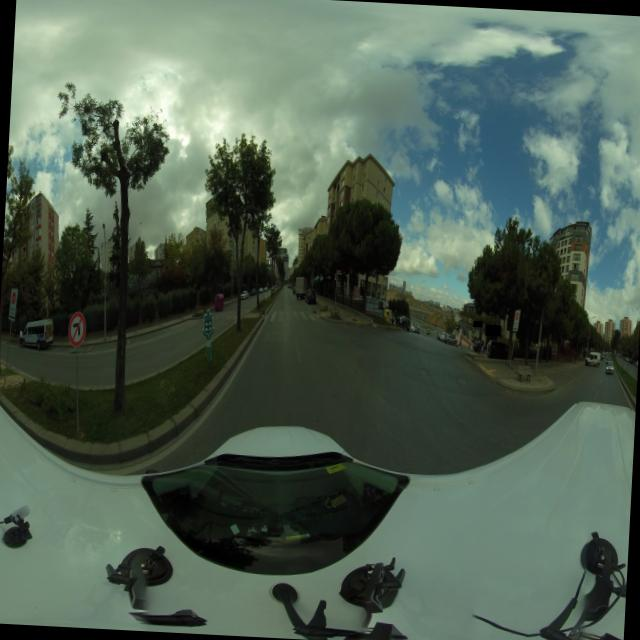SignStore: (485, 325, 501, 337), (473, 321, 483, 327)
